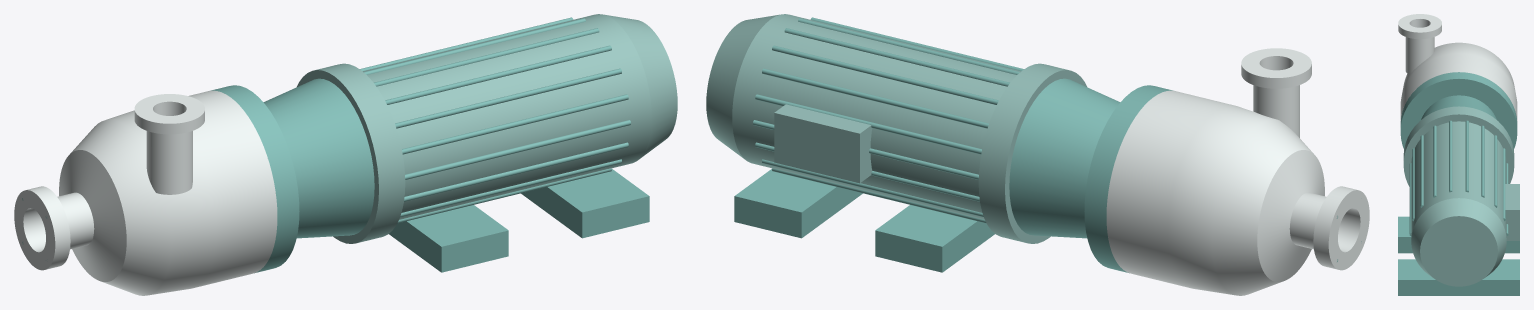
3 views of the same model, side by side, from view 1: azimuth 30°, elevation 25°; view 2: azimuth 150°, elevation 25°; view 3: azimuth 270°, elevation 25° (orthographic). The views are drawn at different scales.
Parts seen in each view (by area): view 1: 泵体_圆弧壳与轴向进液口, 电机_带筋机壳, 连接座_短连接段, 支脚_电机底脚 (×2), 电机_连接法兰, 连接座_泵壳连接环, 电机_圆弧尾罩, 接口_偏置竖向出液管, 接口_朝上出液法兰, 电机_散热筋09, 电机_散热筋08, 电机_散热筋10 (+7 smaller); view 2: 泵体_圆弧壳与轴向进液口, 电机_带筋机壳, 连接座_短连接段, 支脚_电机底脚 (×2), 电机_连接法兰, 电机_接线盒, 连接座_泵壳连接环, 电机_圆弧尾罩, 接口_朝上出液法兰, 接口_偏置竖向出液管, 电机_散热筋03, 电机_散热筋04 (+8 smaller); view 3: 电机_圆弧尾罩, 电机_带筋机壳, 连接座_泵壳连接环, 支脚_电机底脚 (×2), 泵体_圆弧壳与轴向进液口, 电机_连接法兰, 接口_朝上出液法兰, 接口_偏置竖向出液管, 电机_接线盒, 连接座_短连接段, 电机_散热筋04, 电机_散热筋05 (+8 smaller).
Part boxes in pixels (x1=…): 泵体_圆弧壳与轴向进液口: x1=14, y1=90, x2=277, y2=295; 电机_带筋机壳: x1=363, y1=14, x2=651, y2=219; 连接座_短连接段: x1=263, y1=78, x2=374, y2=238; 支脚_电机底脚 (×2): x1=389, y1=169, x2=649, y2=272; 电机_连接法兰: x1=297, y1=63, x2=405, y2=243; 连接座_泵壳连接环: x1=210, y1=85, x2=299, y2=273; 电机_圆弧尾罩: x1=604, y1=14, x2=677, y2=159; 接口_偏置竖向出液管: x1=146, y1=112, x2=192, y2=194; 接口_朝上出液法兰: x1=134, y1=94, x2=204, y2=134; 电机_散热筋09: x1=402, y1=94, x2=628, y2=154; 电机_散热筋08: x1=395, y1=68, x2=621, y2=128; 电机_散热筋10: x1=405, y1=120, x2=630, y2=179; 泵体_圆弧壳与轴向进液口: x1=1106, y1=90, x2=1369, y2=295; 电机_带筋机壳: x1=732, y1=14, x2=1020, y2=219; 连接座_短连接段: x1=1009, y1=78, x2=1120, y2=238; 支脚_电机底脚 (×2): x1=734, y1=169, x2=994, y2=272; 电机_连接法兰: x1=978, y1=63, x2=1086, y2=243; 电机_接线盒: x1=774, y1=104, x2=872, y2=183; 连接座_泵壳连接环: x1=1084, y1=85, x2=1173, y2=273; 电机_圆弧尾罩: x1=706, y1=14, x2=779, y2=159; 接口_朝上出液法兰: x1=1241, y1=48, x2=1311, y2=88; 接口_偏置竖向出液管: x1=1253, y1=66, x2=1299, y2=137; 电机_散热筋03: x1=762, y1=68, x2=988, y2=128; 电机_散热筋04: x1=772, y1=45, x2=998, y2=104; 电机_圆弧尾罩: x1=1411, y1=198, x2=1506, y2=286; 电机_带筋机壳: x1=1411, y1=121, x2=1506, y2=237; 连接座_泵壳连接环: x1=1400, y1=72, x2=1517, y2=149; 支脚_电机底脚 (×2): x1=1398, y1=216, x2=1519, y2=295; 泵体_圆弧壳与轴向进液口: x1=1400, y1=42, x2=1517, y2=120; 电机_连接法兰: x1=1403, y1=106, x2=1514, y2=186; 接口_朝上出液法兰: x1=1398, y1=14, x2=1441, y2=39; 接口_偏置竖向出液管: x1=1405, y1=25, x2=1434, y2=74; 电机_接线盒: x1=1505, y1=184, x2=1519, y2=240; 连接座_短连接段: x1=1421, y1=95, x2=1496, y2=119; 电机_散热筋04: x1=1481, y1=125, x2=1484, y2=197; 电机_散热筋05: x1=1465, y1=120, x2=1468, y2=192.
Size of the model in its own units: 2.15 by 0.715 by 0.596.
